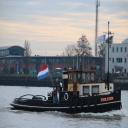tugboat: (11, 62, 124, 118)
